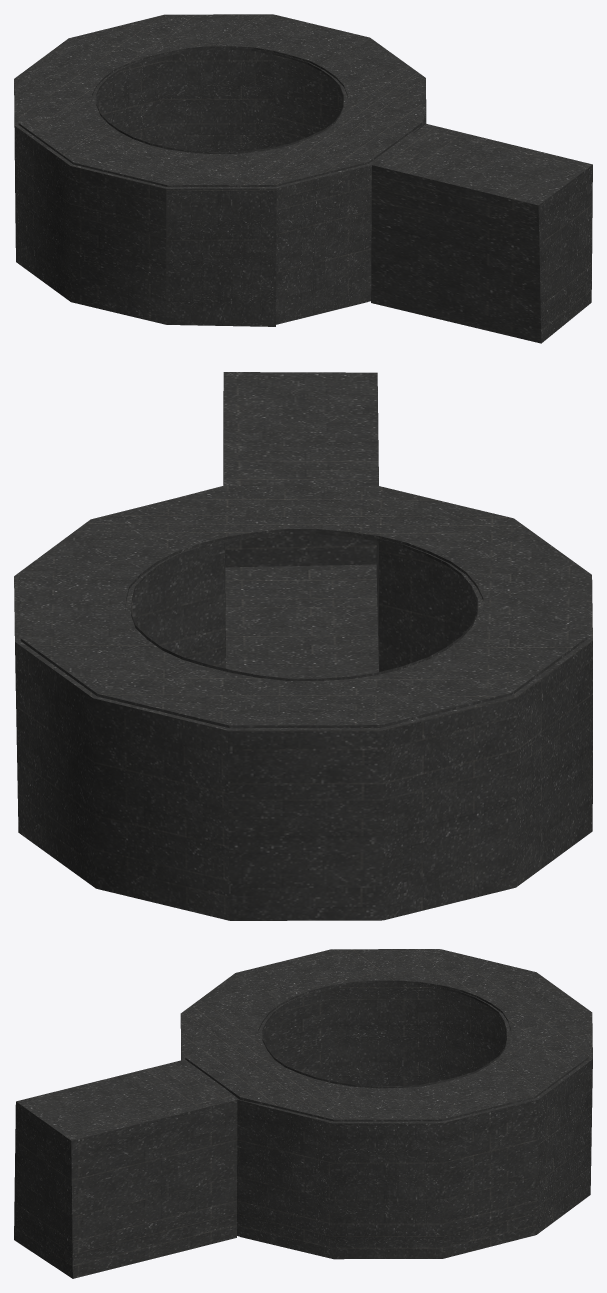
File: main_room.fbx
The picture shows the model from 3 angles, top to bottom: view 1: azimuth 30°, elevation 25°; view 2: azimuth 150°, elevation 25°; view 3: azimuth 270°, elevation 25°; orthographic projection. The views are drawn at different scales.
Visible parts, largest first — view 1: Cylinder001; view 2: Cylinder001; view 3: Cylinder001.
Boxes of the visible parts, x1=… form: Cylinder001: x1=14, y1=14, x2=592, y2=343; Cylinder001: x1=14, y1=372, x2=592, y2=920; Cylinder001: x1=14, y1=949, x2=592, y2=1278.
Bounding box in the file's own units: 20.91 × 7.23 × 26.66.
